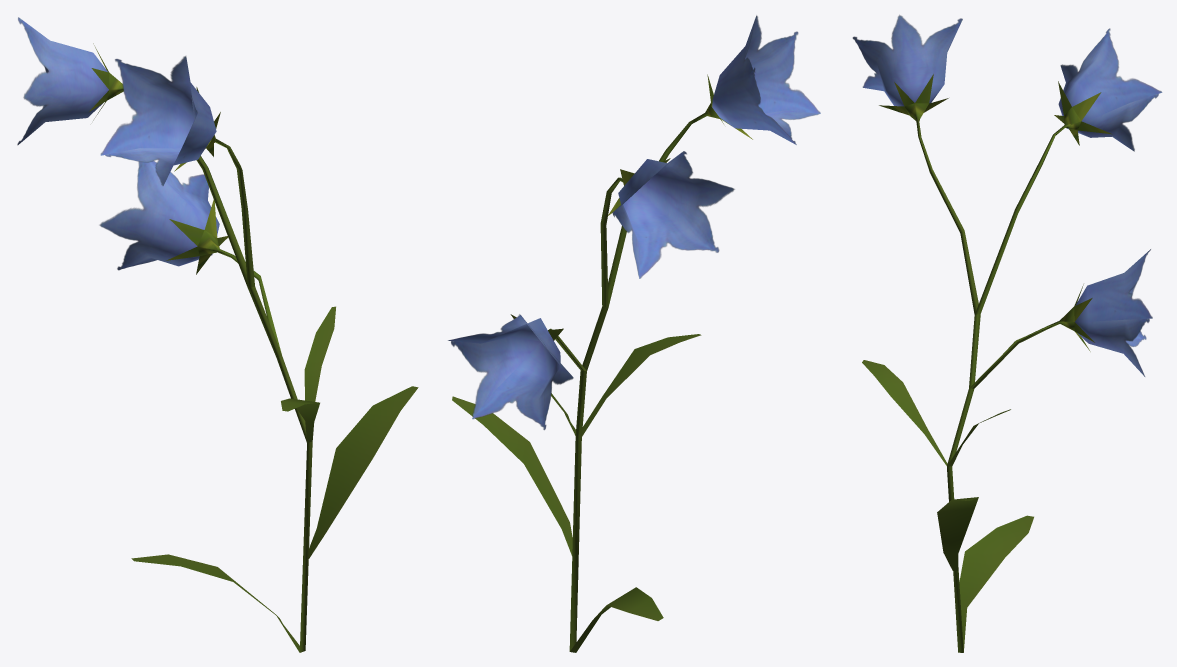
Rendered from purple_flower.glb.
The picture shows the model from 3 angles, left to right: view 1: azimuth 30°, elevation 25°; view 2: azimuth 150°, elevation 25°; view 3: azimuth 270°, elevation 25°; orthographic projection. The views are drawn at different scales.
Parts seen in each view (by area): view 1: bq_Flower_Campanula-scheuchzeri_C_spring-summer; view 2: bq_Flower_Campanula-scheuchzeri_C_spring-summer; view 3: bq_Flower_Campanula-scheuchzeri_C_spring-summer.
Boxes of the visible parts, x1,y1,x2,y2 form: bq_Flower_Campanula-scheuchzeri_C_spring-summer: [17, 17, 418, 652]; bq_Flower_Campanula-scheuchzeri_C_spring-summer: [448, 15, 820, 652]; bq_Flower_Campanula-scheuchzeri_C_spring-summer: [852, 15, 1162, 652].
Bounding box in the file's own units: 0.101 × 0.1863 × 0.0919.
2 materials, 2 textured.
